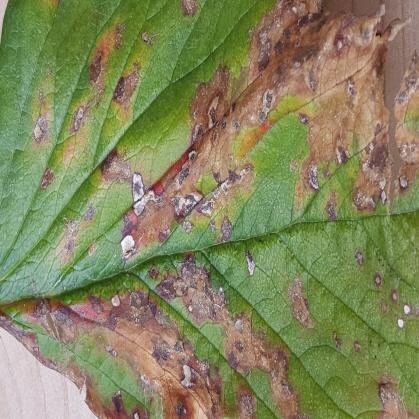Angular Leafspot: (0, 0, 418, 418)
